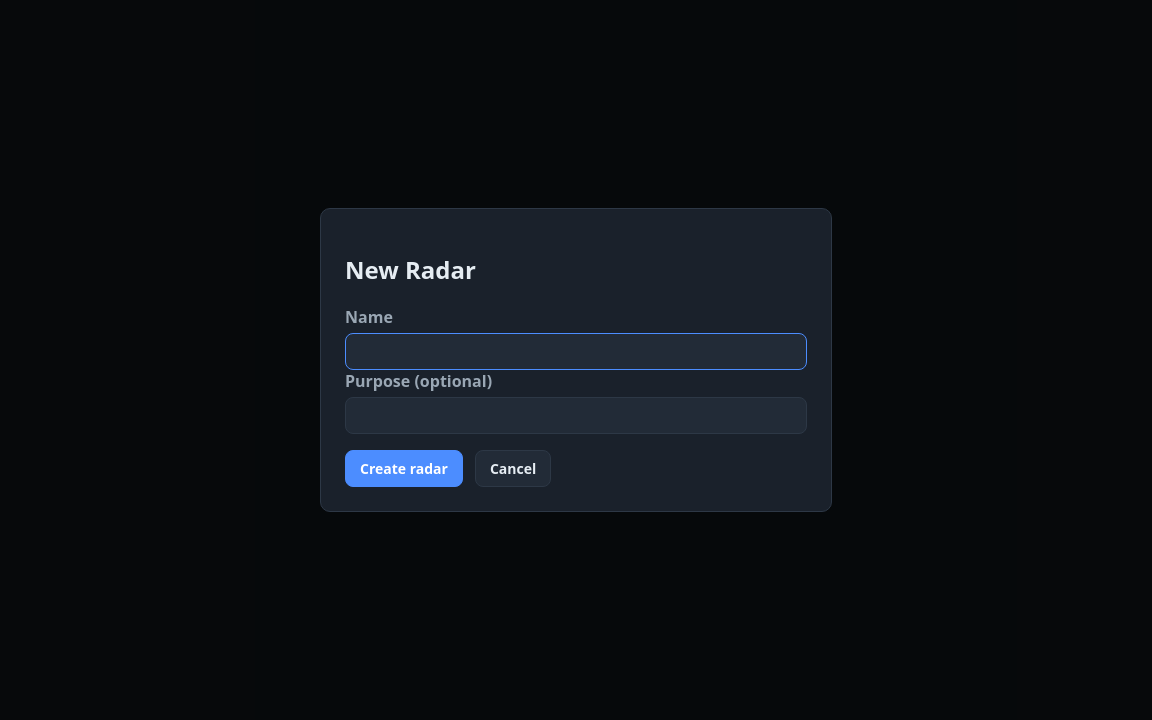
Test: NewRadarForm › disables the submit button while the request is pending
Step 1. Type "Mobile Radar" into the field labelled "Name" → (576, 351), box 345,333 -> 807,370
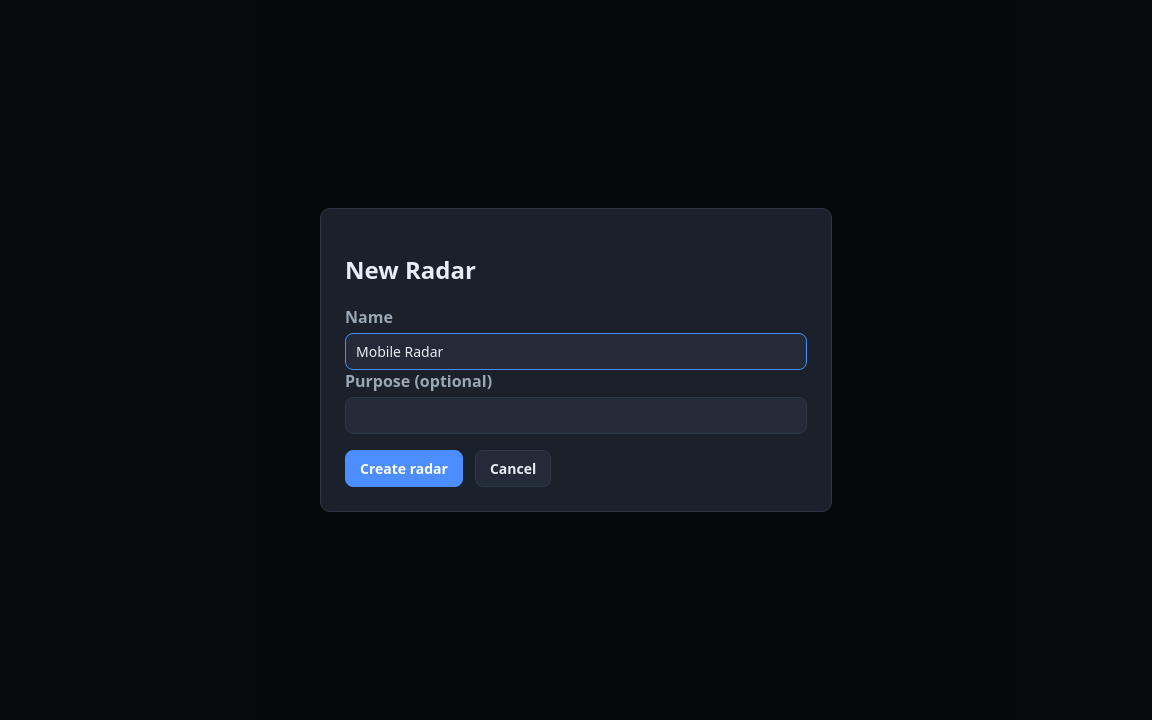
Step 2. Click the button "Create radar" → (404, 468), box 345,450 -> 463,487
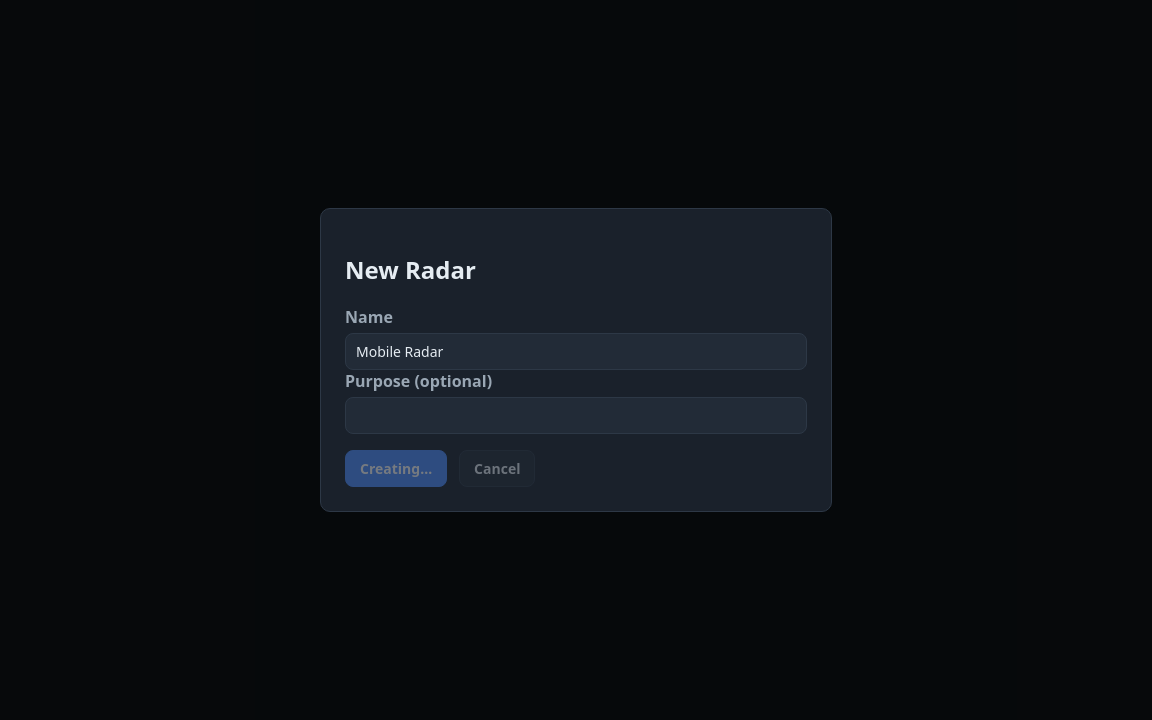
Expected: the button "Creating…" is disabled, 345,450 -> 447,487
